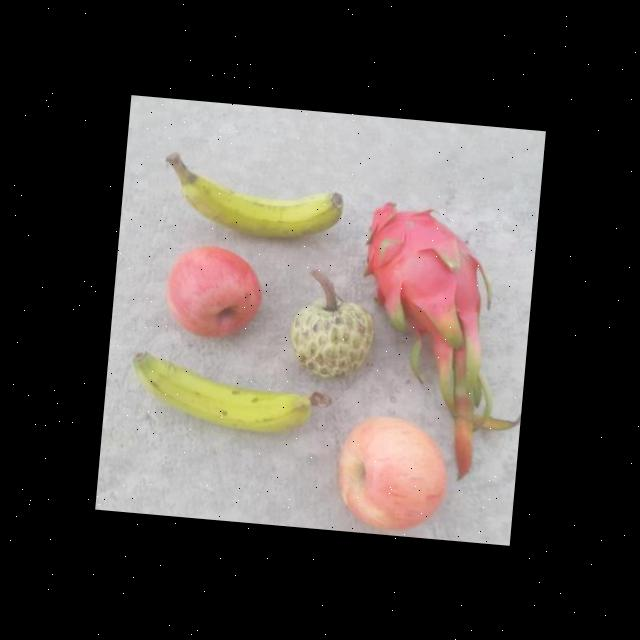Sakya fruit: (286, 292, 378, 382)
apple: (318, 410, 456, 540), (161, 241, 265, 343)
banana: (156, 152, 348, 248), (125, 350, 318, 440)
pitaya: (360, 198, 495, 342)
